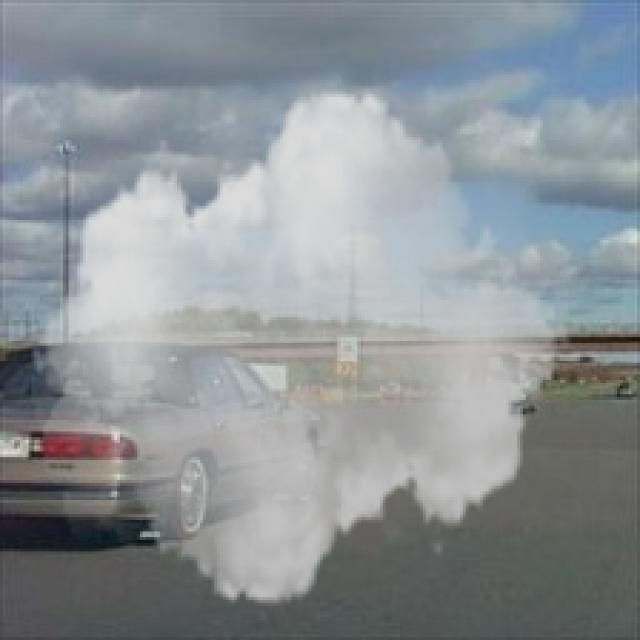smoke: (31, 69, 572, 626)
